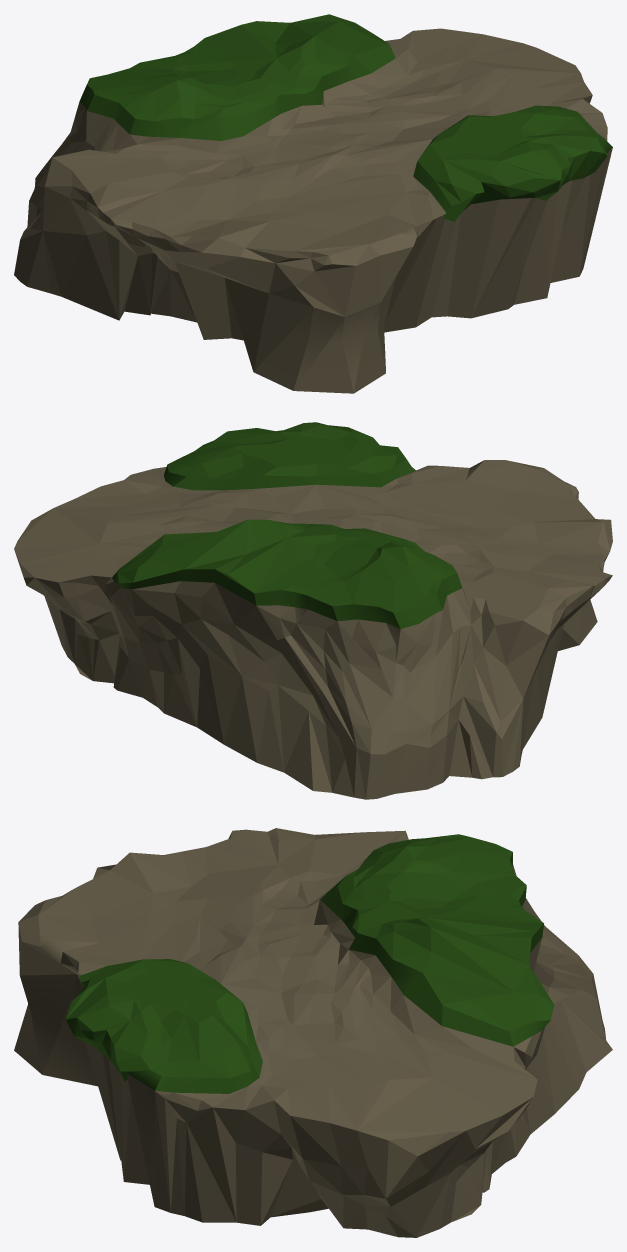
The model's file is ENV_Island_Cliff_02_Medium.fbx.
The picture shows the model from 3 angles, top to bottom: view 1: azimuth 30°, elevation 25°; view 2: azimuth 150°, elevation 25°; view 3: azimuth 270°, elevation 25°; orthographic projection. The views are drawn at different scales.
Parts seen in each view (by area): view 1: ENV_Island_Cliff_02_Medium; view 2: ENV_Island_Cliff_02_Medium; view 3: ENV_Island_Cliff_02_Medium.
Boxes of the visible parts, x1,y1,x2,y2 form: ENV_Island_Cliff_02_Medium: (14, 14, 612, 393); ENV_Island_Cliff_02_Medium: (14, 422, 612, 799); ENV_Island_Cliff_02_Medium: (14, 828, 612, 1237).
Size of the model in its own units: 2820 by 925 by 2463.
